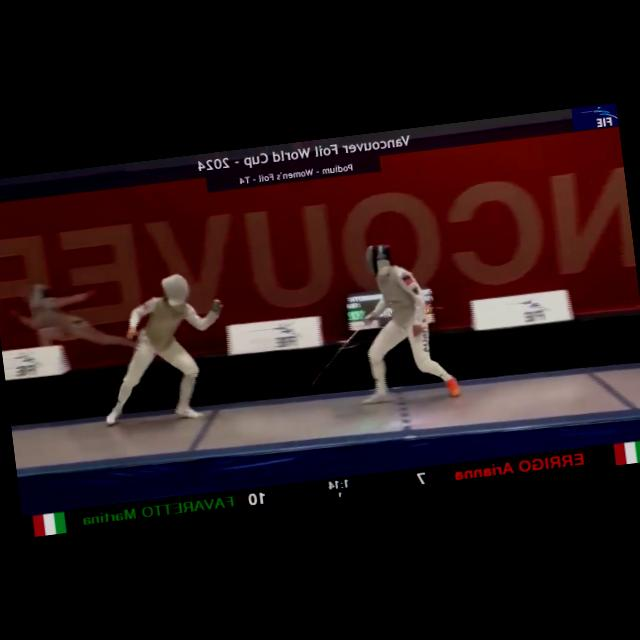blade: (301, 312, 381, 387)
